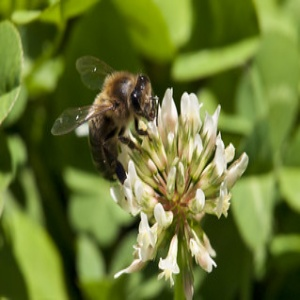bee: (54, 54, 159, 189)
